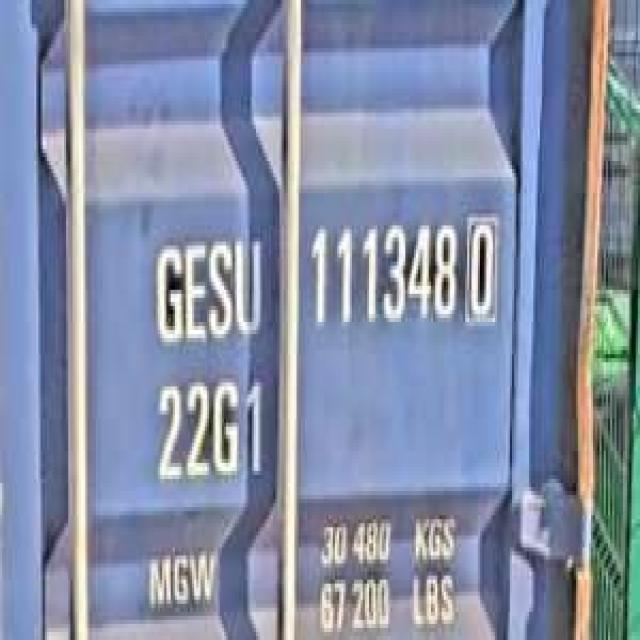dv: (463, 205, 499, 322)
owner: (147, 226, 269, 350)
serial: (303, 209, 456, 342)
size: (149, 370, 271, 487)
